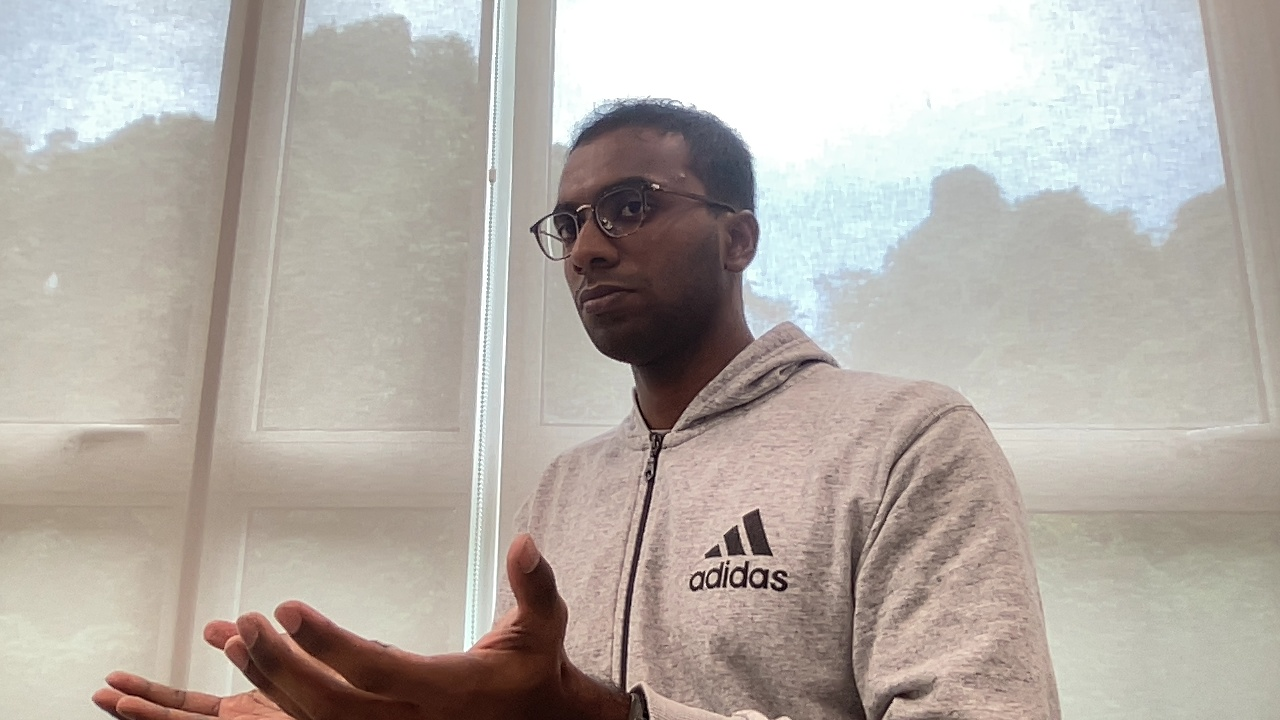give: (87, 516, 578, 720)
